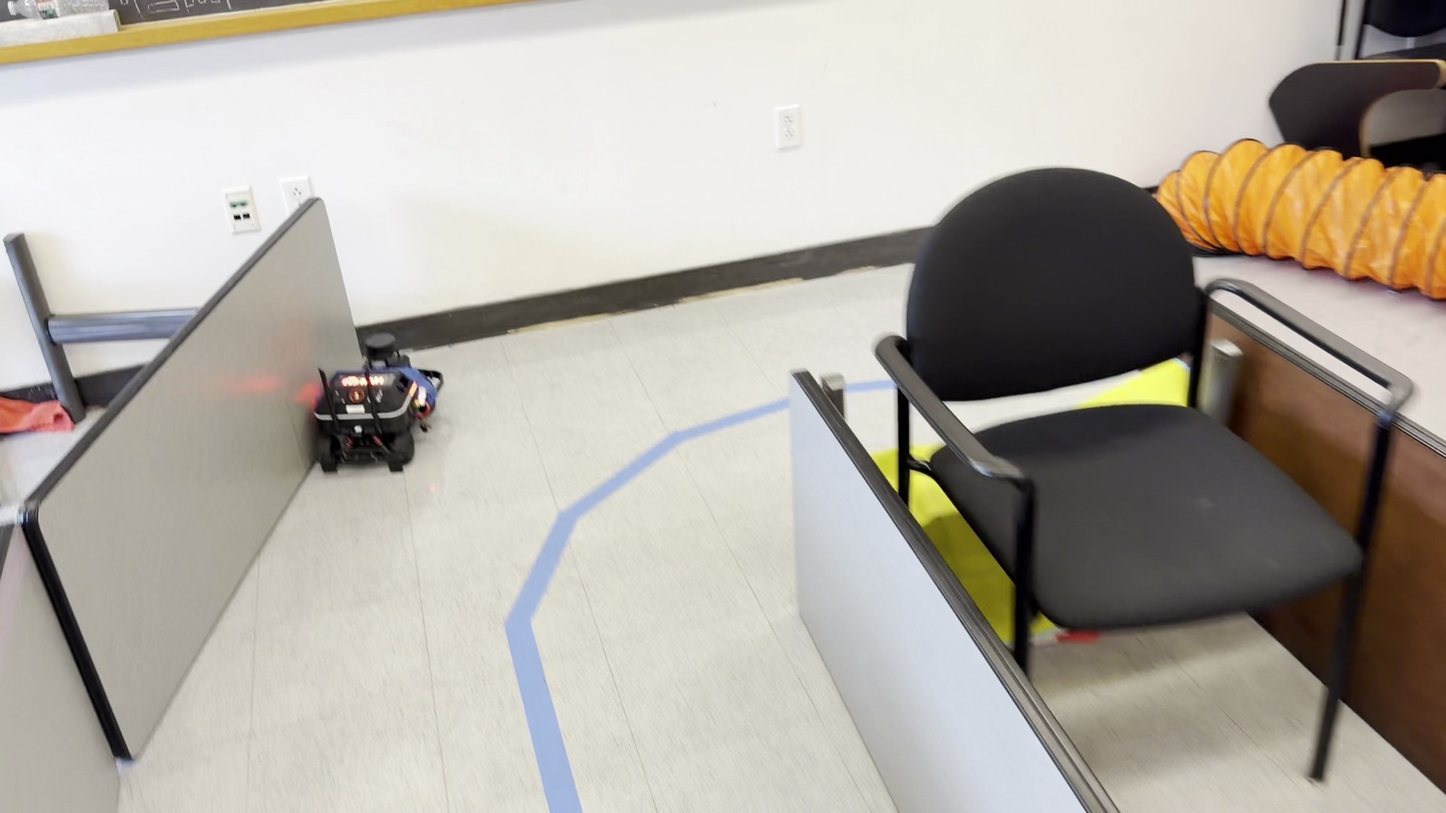racecar: (308, 335, 442, 469)
